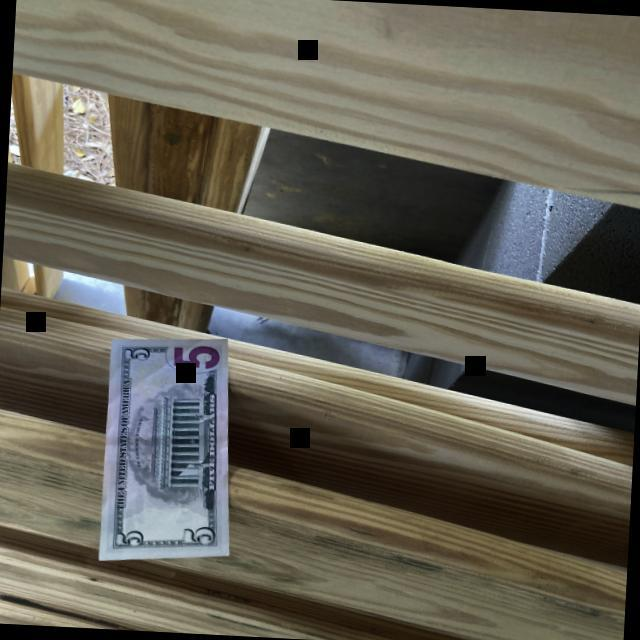five: (98, 339, 231, 561)
